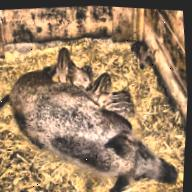boar: (0, 31, 185, 192)
